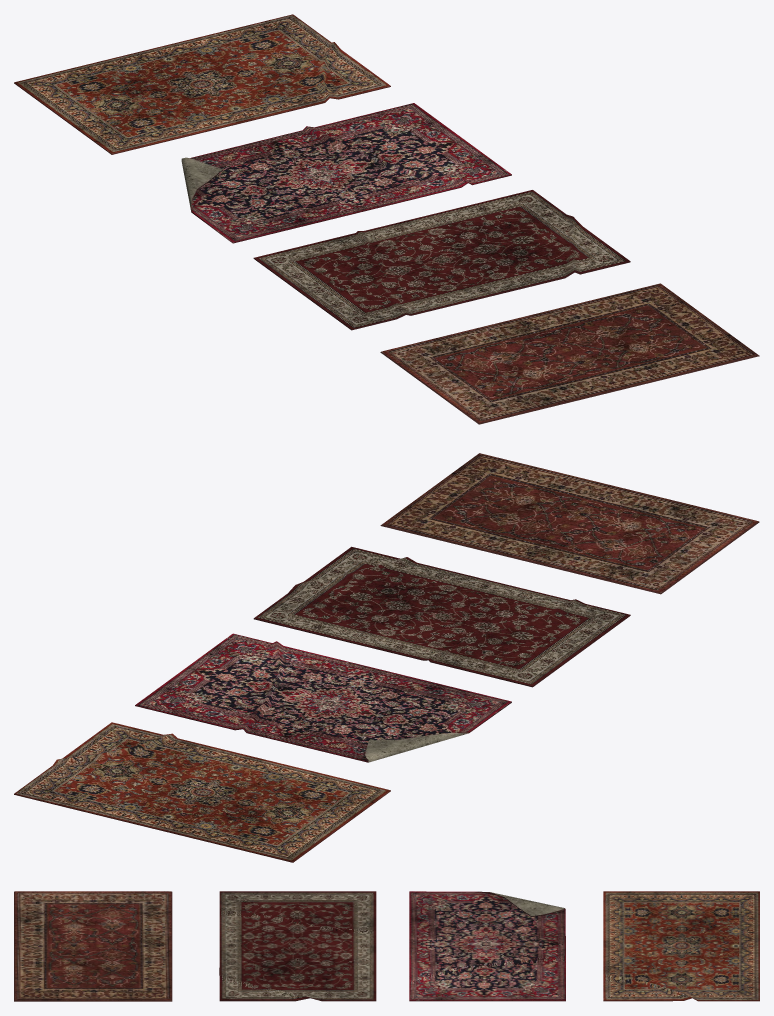
The model's file is rugs.glb.
3 renders of one model, top to bottom at view 1: azimuth 30°, elevation 25°; view 2: azimuth 150°, elevation 25°; view 3: azimuth 270°, elevation 25°, orthographic. The views are drawn at different scales.
Parts seen in each view (by area): view 1: SM_Carpet_01_SM_Carpet0102_0, SM_Carpet_04_SM_Carpet0304_0, SM_Carpet_02_SM_Carpet0102_0, SM_Carpet_03_SM_Carpet0304_0; view 2: SM_Carpet_01_SM_Carpet0102_0, SM_Carpet_02_SM_Carpet0102_0, SM_Carpet_04_SM_Carpet0304_0, SM_Carpet_03_SM_Carpet0304_0; view 3: SM_Carpet_01_SM_Carpet0102_0, SM_Carpet_02_SM_Carpet0102_0, SM_Carpet_04_SM_Carpet0304_0, SM_Carpet_03_SM_Carpet0304_0.
Part boxes in pixels (bbox=[...]): SM_Carpet_01_SM_Carpet0102_0: bbox=[380, 283, 759, 424]; SM_Carpet_04_SM_Carpet0304_0: bbox=[14, 14, 390, 154]; SM_Carpet_02_SM_Carpet0102_0: bbox=[253, 190, 630, 330]; SM_Carpet_03_SM_Carpet0304_0: bbox=[181, 103, 511, 243]; SM_Carpet_01_SM_Carpet0102_0: bbox=[380, 453, 759, 594]; SM_Carpet_02_SM_Carpet0102_0: bbox=[253, 546, 630, 687]; SM_Carpet_04_SM_Carpet0304_0: bbox=[14, 722, 390, 862]; SM_Carpet_03_SM_Carpet0304_0: bbox=[135, 633, 511, 762]; SM_Carpet_01_SM_Carpet0102_0: bbox=[14, 891, 172, 1001]; SM_Carpet_02_SM_Carpet0102_0: bbox=[219, 891, 376, 1001]; SM_Carpet_04_SM_Carpet0304_0: bbox=[603, 891, 759, 1001]; SM_Carpet_03_SM_Carpet0304_0: bbox=[409, 891, 565, 1001].
Bounding box in the file's own units: 894 × 15.73 × 2569.
2 materials, 2 textured.
